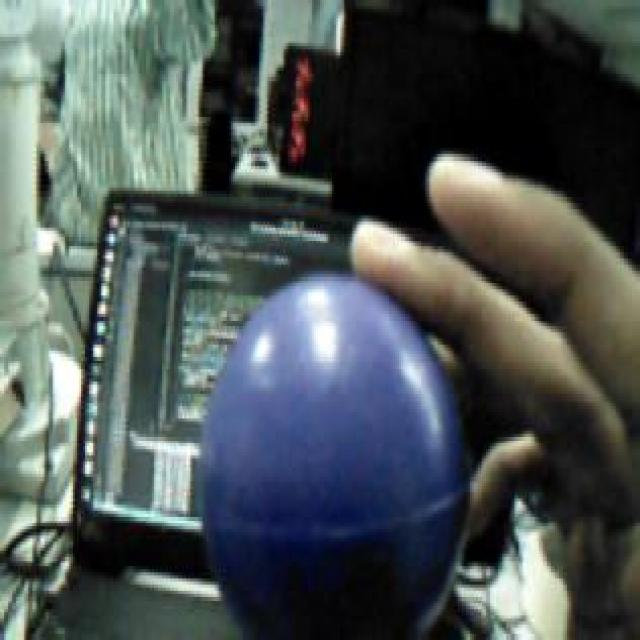BallPurple: (198, 269, 470, 640)
